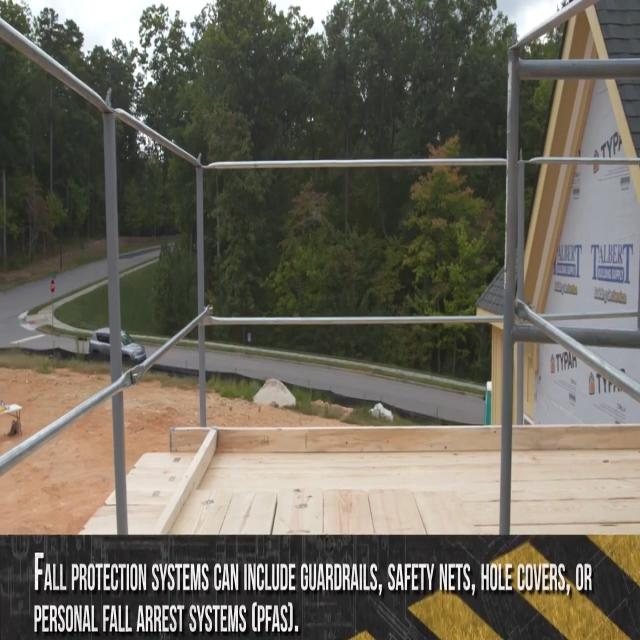vehiculo: (88, 327, 146, 362)
